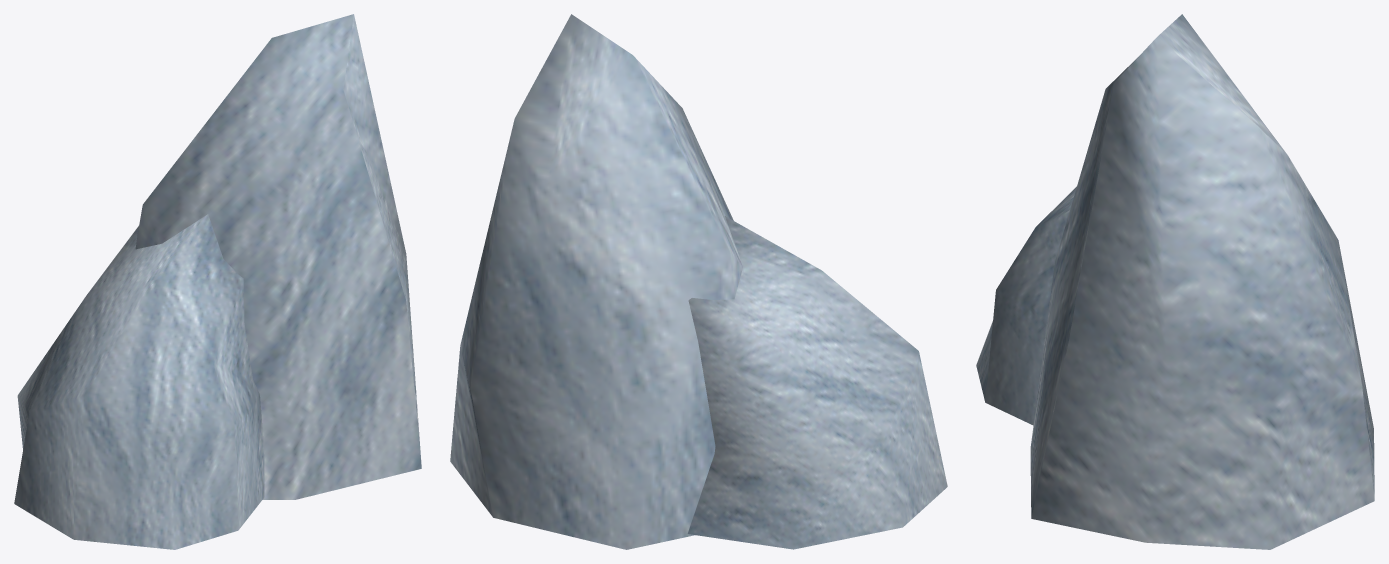
Rendered from Snow_Stone03.FBX.
The picture shows the model from 3 angles, left to right: view 1: azimuth 30°, elevation 25°; view 2: azimuth 150°, elevation 25°; view 3: azimuth 270°, elevation 25°; orthographic projection. The views are drawn at different scales.
Visible parts, largest first — view 1: Snow_Stone03; view 2: Snow_Stone03; view 3: Snow_Stone03.
Part boxes in pixels (x1,y1,x2,y2): Snow_Stone03: (14, 14, 421, 549); Snow_Stone03: (450, 14, 947, 549); Snow_Stone03: (976, 14, 1374, 549).
Size of the model in its own units: 125 by 124 by 94.49.
